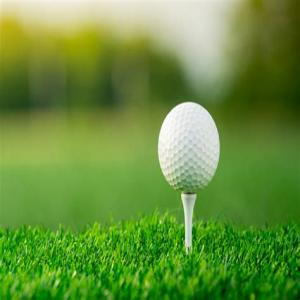Golf: (158, 102, 221, 195)
